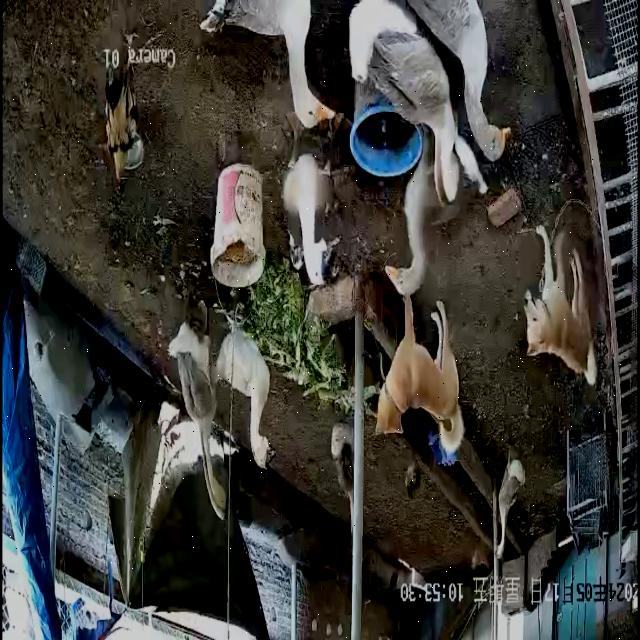dog: (376, 294, 466, 455), (525, 224, 599, 388)
